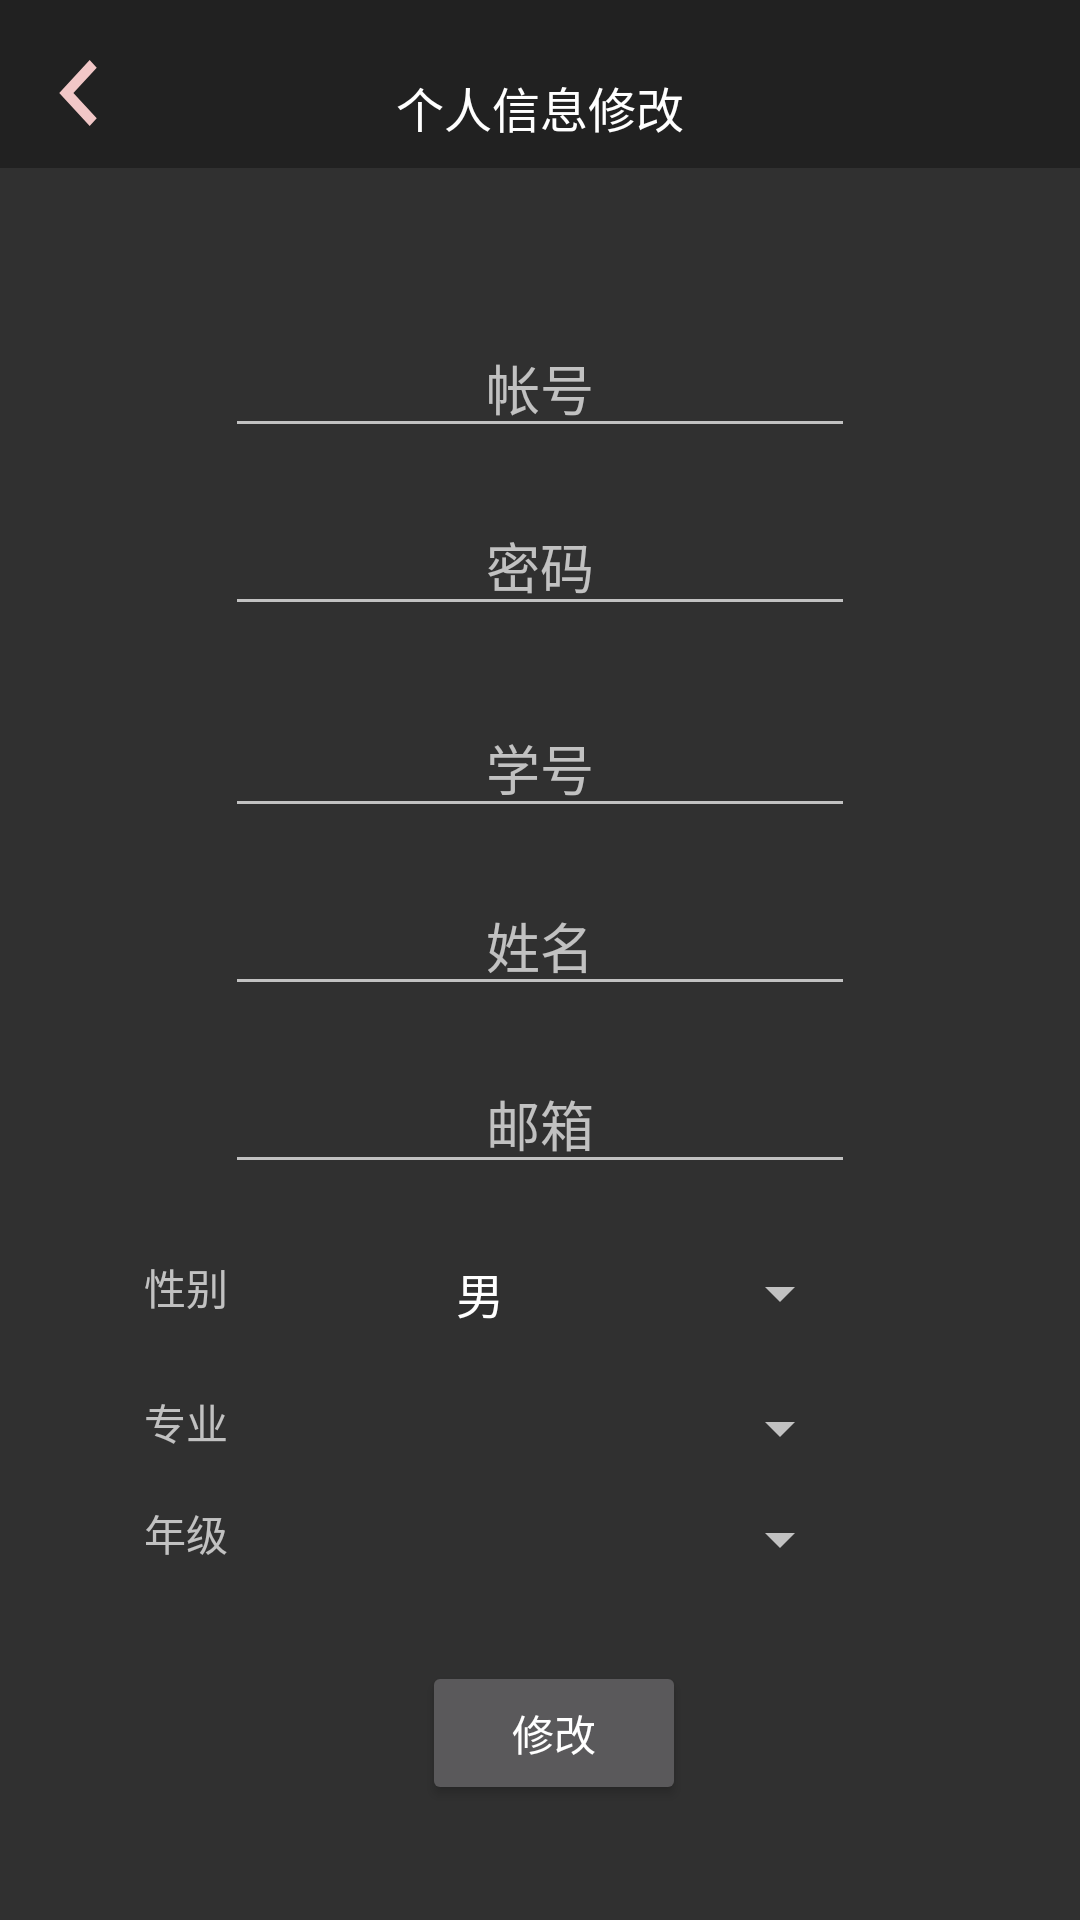

Where to tap for icons on this 1080*1920 app screen, as point (x, y):
arrow left: point (78, 93)
